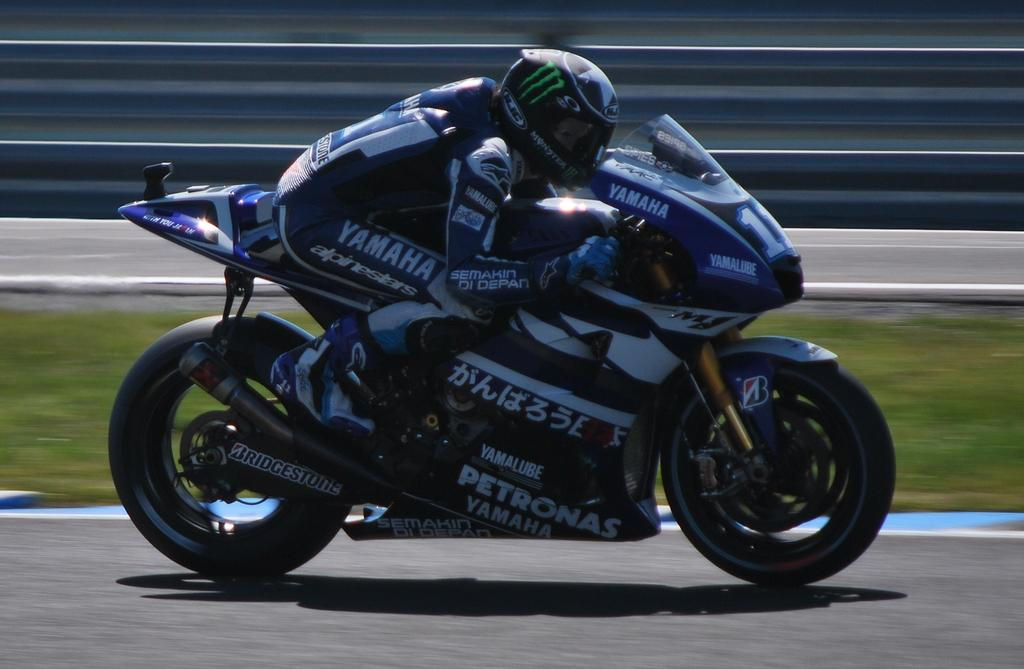helmet: (495, 49, 620, 192)
